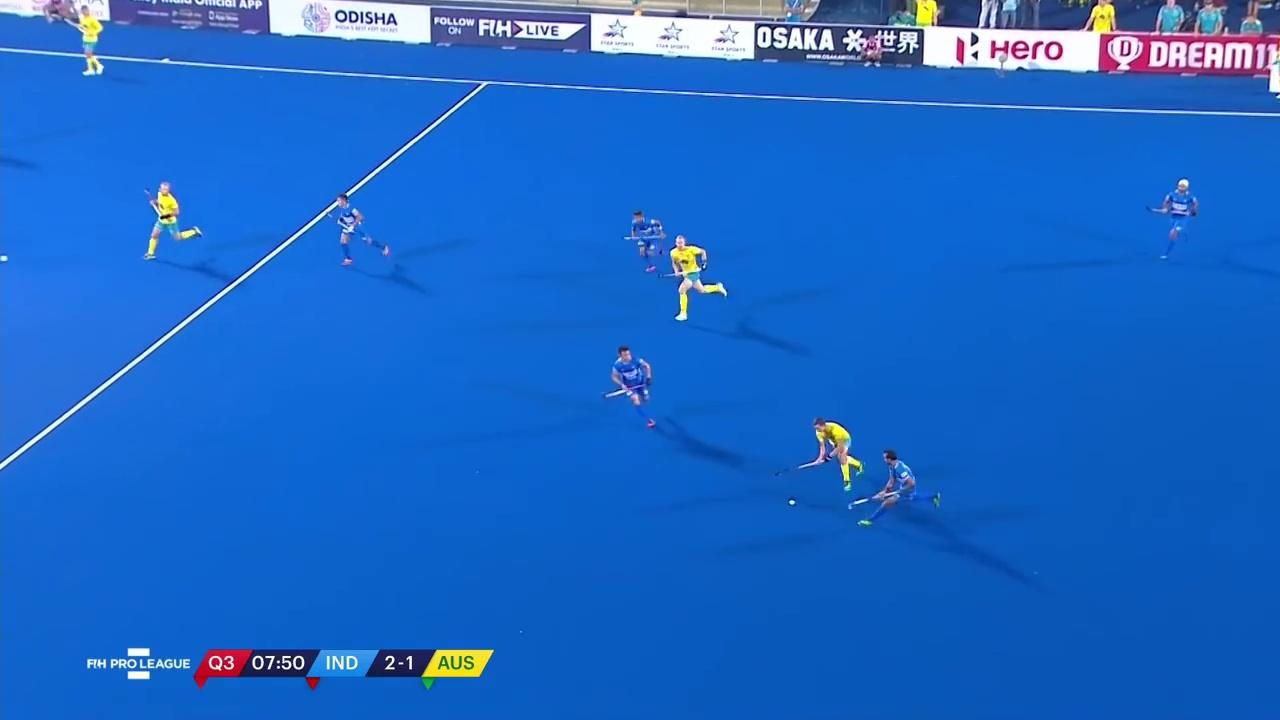ball: (782, 494, 801, 510)
